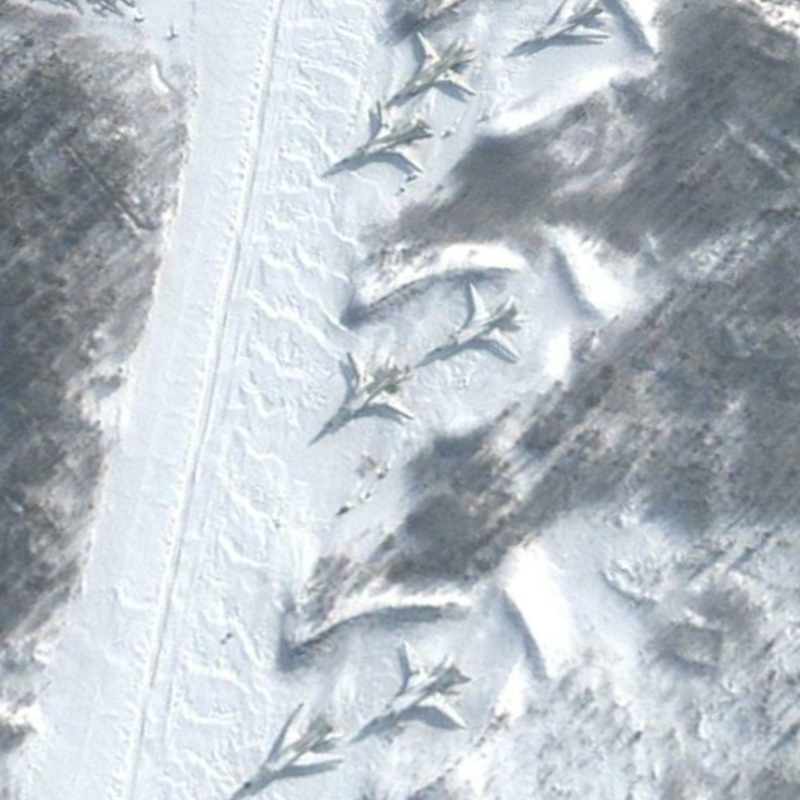A12: (351, 637, 472, 745), (233, 700, 348, 800), (308, 349, 418, 444), (415, 277, 527, 369), (321, 98, 436, 179), (381, 27, 481, 107), (508, 1, 613, 53)
